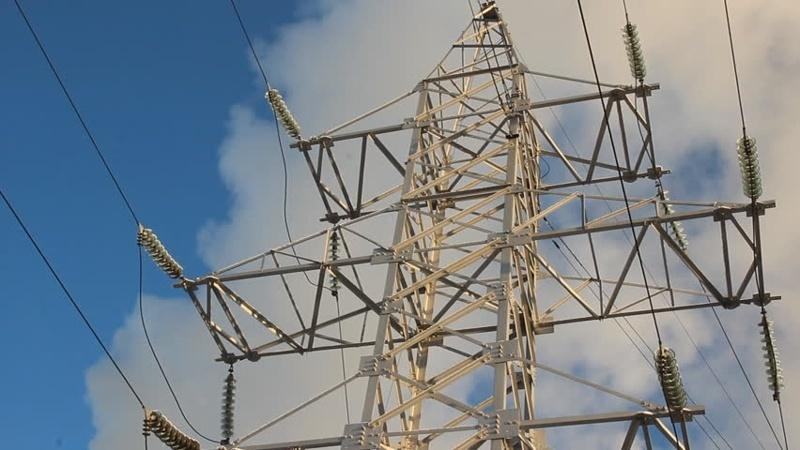power_tower: (101, 5, 781, 439)
